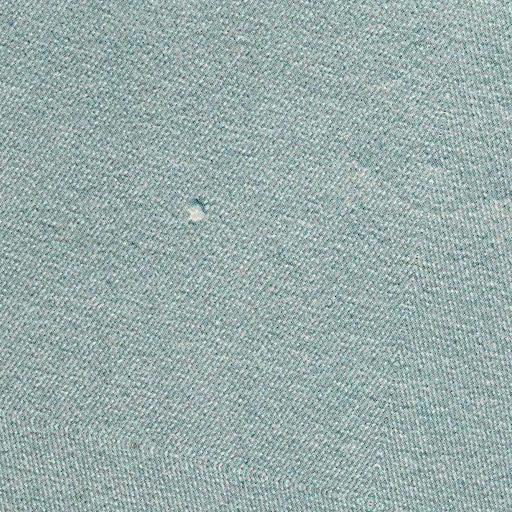knot: (174, 190, 218, 231)
